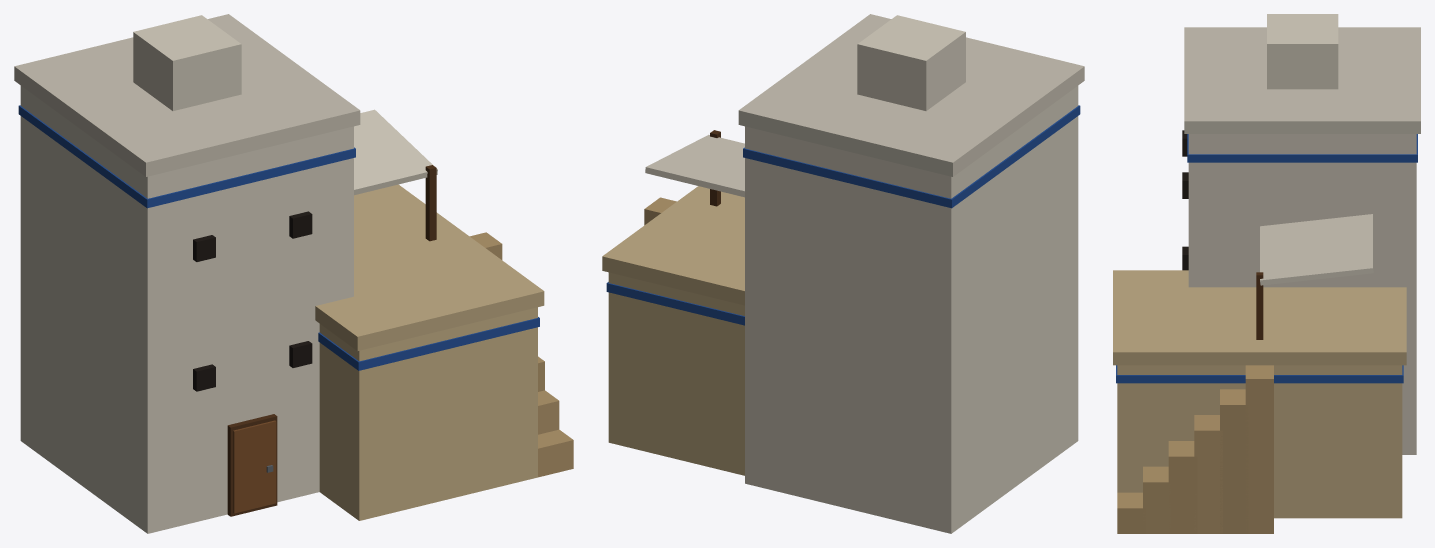
The model's file is gnoll_house_b_broken.glb.
3 renders of one model, left to right at view 1: azimuth 30°, elevation 25°; view 2: azimuth 150°, elevation 25°; view 3: azimuth 270°, elevation 25°, orthographic. The views are drawn at different scales.
Parts seen in each view (by area): view 1: gnoll_house_b_piece6, gnoll_house_b_piece10, gnoll_house_b_piece9, gnoll_house_b_piece0, gnoll_house_b_piece13, gnoll_house_b_piece5, gnoll_house_b_piece8, gnoll_house_b_piece1, gnoll_house_b_piece11, gnoll_house_b_piece4, gnoll_house_b_piece2, gnoll_house_b_piece3; view 2: gnoll_house_b_piece0, gnoll_house_b_piece7, gnoll_house_b_piece9, gnoll_house_b_piece13, gnoll_house_b_piece1, gnoll_house_b_piece4, gnoll_house_b_piece8, gnoll_house_b_piece6, gnoll_house_b_piece5, gnoll_house_b_piece2; view 3: gnoll_house_b_piece1, gnoll_house_b_piece11, gnoll_house_b_piece5, gnoll_house_b_piece7, gnoll_house_b_piece0, gnoll_house_b_piece6, gnoll_house_b_piece13, gnoll_house_b_piece2, gnoll_house_b_piece10, gnoll_house_b_piece3, gnoll_house_b_piece8, gnoll_house_b_piece4.
Part boxes in pixels (x1=…): gnoll_house_b_piece6: x1=113, y1=129, x2=412, y2=378; gnoll_house_b_piece10: x1=322, y1=272, x2=554, y2=520; gnoll_house_b_piece9: x1=20, y1=358, x2=271, y2=533; gnoll_house_b_piece0: x1=18, y1=17, x2=241, y2=423; gnoll_house_b_piece13: x1=14, y1=28, x2=254, y2=386; gnoll_house_b_piece5: x1=134, y1=24, x2=414, y2=272; gnoll_house_b_piece8: x1=86, y1=15, x2=289, y2=374; gnoll_house_b_piece1: x1=214, y1=14, x2=489, y2=272; gnoll_house_b_piece11: x1=415, y1=235, x2=573, y2=473; gnoll_house_b_piece4: x1=219, y1=370, x2=353, y2=516; gnoll_house_b_piece2: x1=203, y1=16, x2=374, y2=471; gnoll_house_b_piece3: x1=354, y1=229, x2=391, y2=266; gnoll_house_b_piece0: x1=726, y1=91, x2=1078, y2=450; gnoll_house_b_piece7: x1=608, y1=232, x2=840, y2=470; gnoll_house_b_piece9: x1=825, y1=331, x2=1078, y2=533; gnoll_house_b_piece13: x1=792, y1=57, x2=1078, y2=293; gnoll_house_b_piece1: x1=602, y1=14, x2=891, y2=368; gnoll_house_b_piece4: x1=722, y1=376, x2=874, y2=515; gnoll_house_b_piece8: x1=857, y1=36, x2=1078, y2=256; gnoll_house_b_piece6: x1=977, y1=40, x2=1084, y2=184; gnoll_house_b_piece5: x1=824, y1=15, x2=1021, y2=87; gnoll_house_b_piece2: x1=809, y1=35, x2=884, y2=86; gnoll_house_b_piece1: x1=1184, y1=109, x2=1420, y2=468; gnoll_house_b_piece11: x1=1113, y1=315, x2=1273, y2=533; gnoll_house_b_piece5: x1=1184, y1=14, x2=1316, y2=319; gnoll_house_b_piece7: x1=1243, y1=260, x2=1416, y2=518; gnoll_house_b_piece0: x1=1182, y1=52, x2=1420, y2=272; gnoll_house_b_piece6: x1=1123, y1=27, x2=1251, y2=317; gnoll_house_b_piece13: x1=1323, y1=14, x2=1420, y2=112; gnoll_house_b_piece2: x1=1229, y1=38, x2=1335, y2=309; gnoll_house_b_piece10: x1=1113, y1=270, x2=1205, y2=493; gnoll_house_b_piece3: x1=1236, y1=150, x2=1327, y2=496; gnoll_house_b_piece8: x1=1182, y1=14, x2=1338, y2=261; gnoll_house_b_piece4: x1=1402, y1=420, x2=1416, y2=454.
Size of the model in its own units: 2.84 by 2.95 by 2.16.
